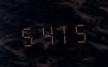five: (18, 22, 35, 48), (72, 18, 89, 44)
four: (36, 21, 53, 46)
one: (54, 19, 71, 45)
